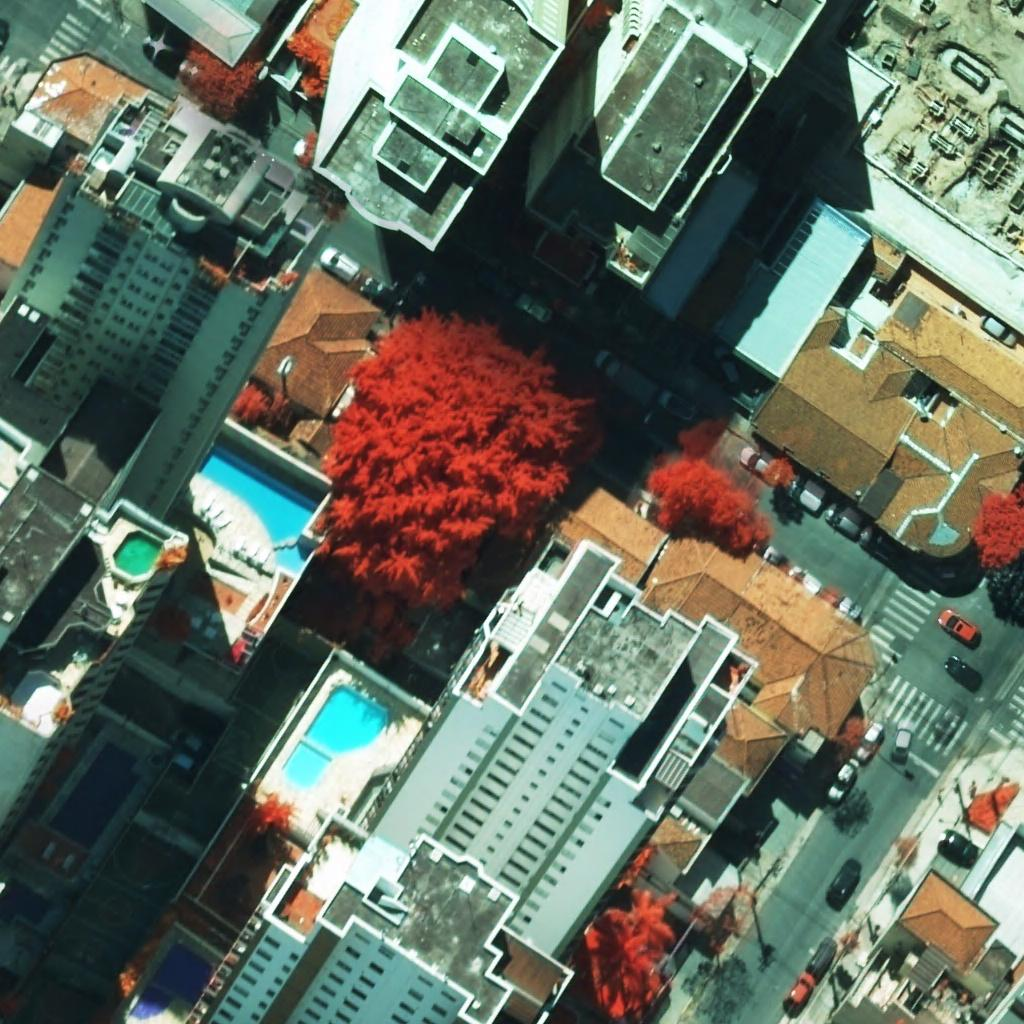pool: (198, 443, 319, 575), (282, 684, 386, 790), (50, 743, 140, 850), (130, 941, 212, 1020), (113, 531, 163, 576)
